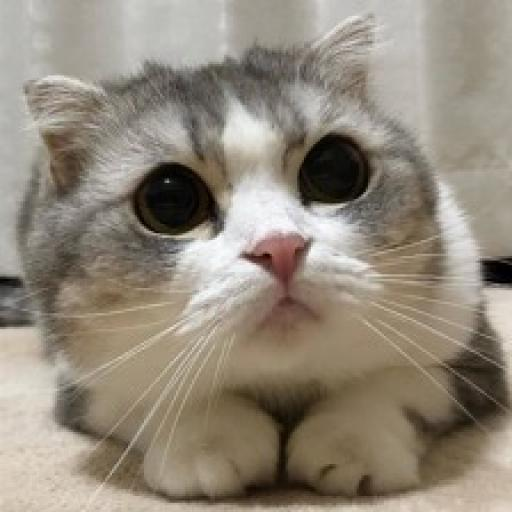cat: (10, 10, 506, 500)
